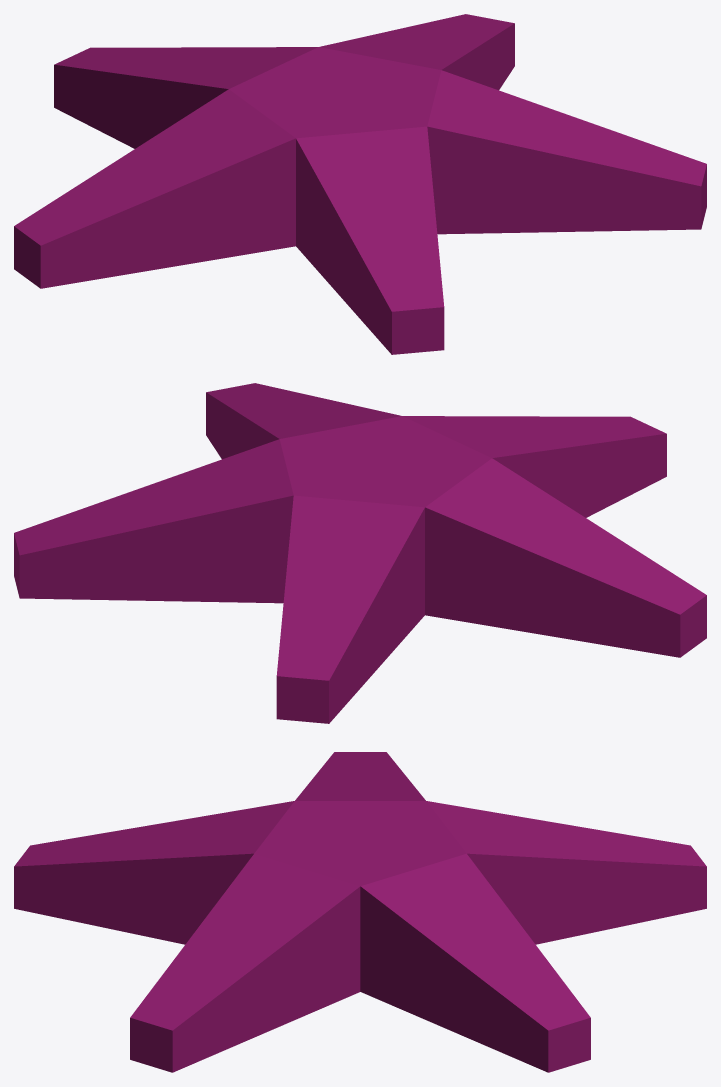
Rendered from Starfish PINK.fbx.
3 views of the same model, one above another, from view 1: azimuth 30°, elevation 25°; view 2: azimuth 150°, elevation 25°; view 3: azimuth 270°, elevation 25° (orthographic). The views are drawn at different scales.
Visible parts, largest first — view 1: Cylinder001; view 2: Cylinder001; view 3: Cylinder001.
Boxes of the visible parts, x1=… form: Cylinder001: x1=14, y1=14, x2=706, y2=354; Cylinder001: x1=14, y1=383, x2=706, y2=723; Cylinder001: x1=14, y1=752, x2=706, y2=1072.
Bounding box in the file's own units: 46.49 × 8.22 × 48.89.
